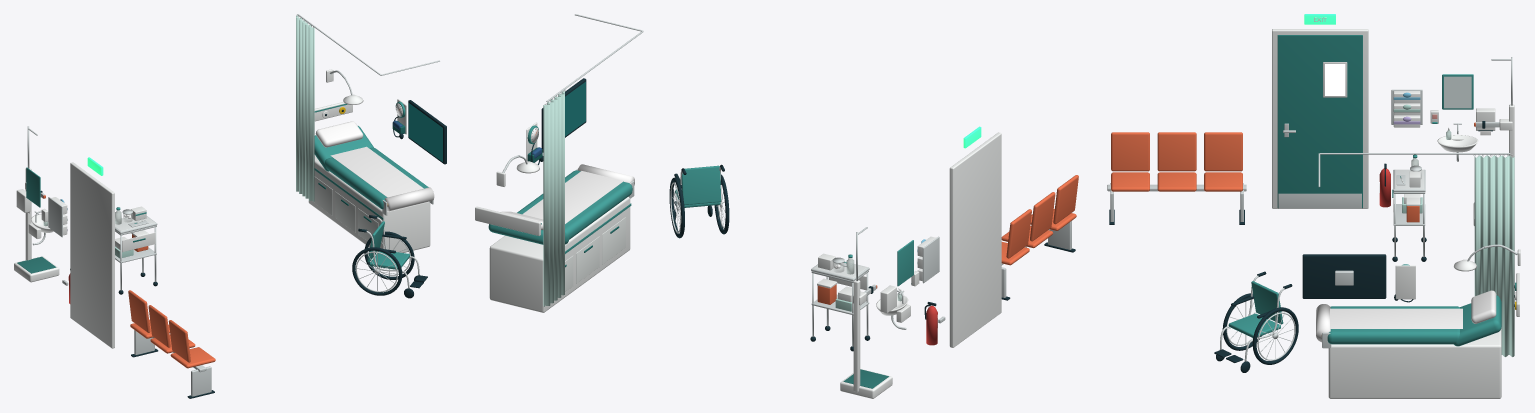
The model's file is ward.glb.
3 views of the same model, side by side, from view 1: azimuth 30°, elevation 25°; view 2: azimuth 150°, elevation 25°; view 3: azimuth 270°, elevation 25° (orthographic). The views are drawn at different scales.
Visible parts, largest first — view 1: DoorFrame, BedBase, Curtain, PaperSheet, Mattress, TVFace, Pillow, Headrest, PaperRoll, ChairBack2, ChairBack1, ChairBack0 (+15 smaller); view 2: DoorFrame, BedBase, Curtain, PaperSheet, Mattress, WcBack, GasRail, ScaleColumn, TVFace, ChairBack0, ChairBack2, ChairBack1 (+5 smaller); view 3: DoorPanel, BedBase, Curtain, TVBody, PaperSheet, DoorFrame, Mattress, ChairBack1, ChairBack0, ChairBack2, DoorKick, Headrest (+16 smaller).
Boxes of the visible parts, <box> form: DoorFrame: <box>70,162,114,348</box>; BedBase: <box>308,155,430,252</box>; Curtain: <box>296,15,314,201</box>; PaperSheet: <box>330,146,423,197</box>; Mattress: <box>324,147,428,209</box>; TVFace: <box>408,103,442,161</box>; Pillow: <box>315,121,363,147</box>; Headrest: <box>314,126,373,171</box>; PaperRoll: <box>384,187,434,211</box>; ChairBack2: <box>128,290,150,332</box>; ChairBack1: <box>148,305,170,347</box>; ChairBack0: <box>168,320,190,362</box>; DoorFrame: <box>949,132,1001,347</box>; BedBase: <box>489,196,630,312</box>; Curtain: <box>543,91,564,306</box>; PaperSheet: <box>522,171,623,223</box>; Mattress: <box>517,170,632,239</box>; WcBack: <box>681,165,721,205</box>; GasRail: <box>475,206,540,235</box>; ScaleColumn: <box>853,280,860,392</box>; TVFace: <box>565,81,585,136</box>; ChairBack0: <box>1053,175,1078,224</box>; ChairBack2: <box>1006,209,1031,258</box>; ChairBack1: <box>1030,192,1055,241</box>; DoorPanel: <box>1277,35,1362,208</box>; BedBase: <box>1328,327,1501,398</box>; Curtain: <box>1474,155,1514,356</box>; TVBody: <box>1302,254,1386,298</box>; PaperSheet: <box>1330,308,1462,328</box>; DoorFrame: <box>1272,29,1368,208</box>; Mattress: <box>1327,306,1459,344</box>; ChairBack1: <box>1157,132,1196,171</box>; ChairBack0: <box>1111,132,1149,171</box>; ChairBack2: <box>1204,132,1242,171</box>; DoorKick: <box>1278,193,1361,208</box>; Headrest: <box>1454,295,1501,346</box>.
Bounding box in the file's own units: 50.15 × 25.66 × 44.45.
